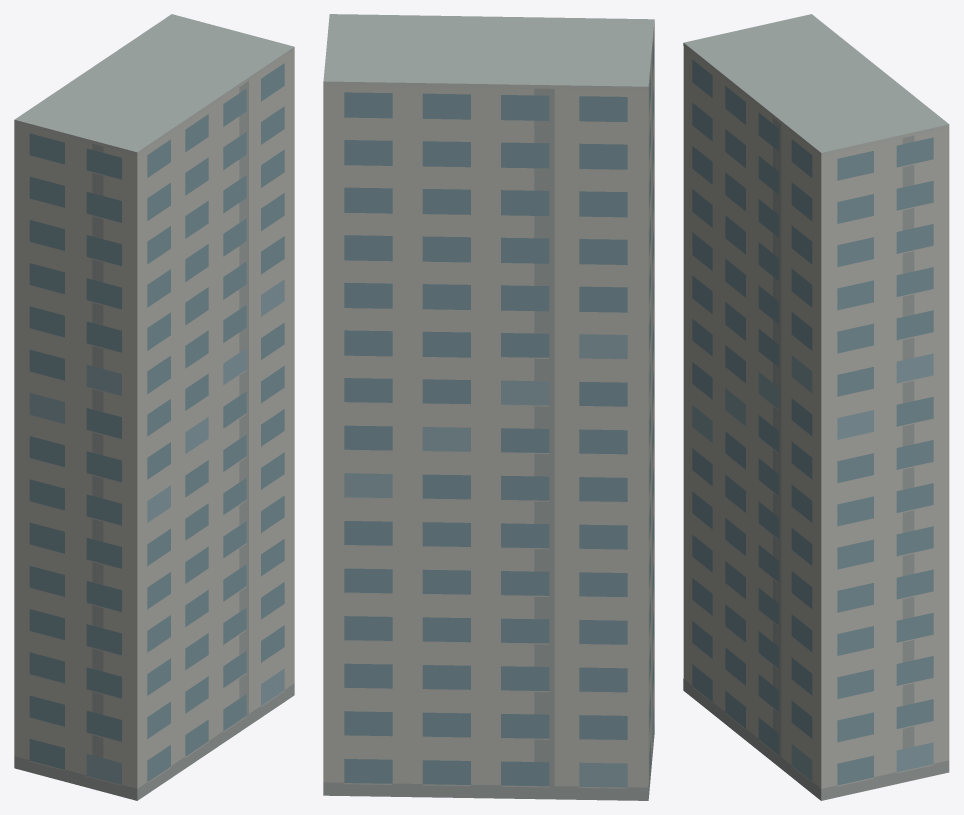
File: residential-9814cdcf-81c6-419c-9ff2-f71377b6fabf.glb
The picture shows the model from 3 angles, left to right: view 1: azimuth 30°, elevation 25°; view 2: azimuth 150°, elevation 25°; view 3: azimuth 270°, elevation 25°; orthographic projection. The views are drawn at different scales.
Visible parts, largest first — view 1: residential-9814cdcf-81c6-419c-9ff2-f71377b6fabf.tmp; view 2: residential-9814cdcf-81c6-419c-9ff2-f71377b6fabf.tmp; view 3: residential-9814cdcf-81c6-419c-9ff2-f71377b6fabf.tmp.
Part boxes in pixels (x1,y1,x2,y2): residential-9814cdcf-81c6-419c-9ff2-f71377b6fabf.tmp: (14, 14, 294, 800); residential-9814cdcf-81c6-419c-9ff2-f71377b6fabf.tmp: (323, 14, 654, 800); residential-9814cdcf-81c6-419c-9ff2-f71377b6fabf.tmp: (683, 14, 949, 800).
Size of the model in its own units: 21.61 by 47 by 17.49.
